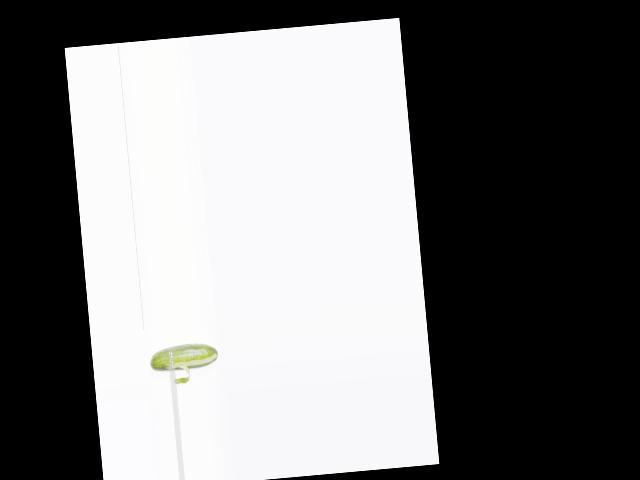cucumber: (148, 341, 219, 373)
